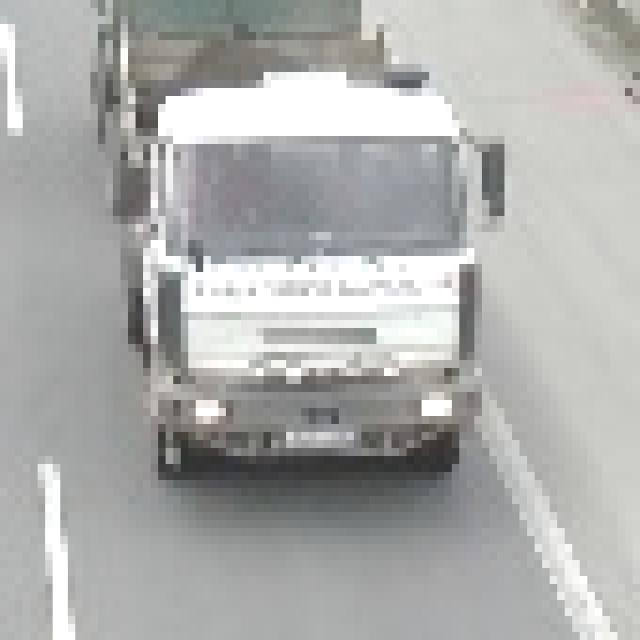truck: (77, 1, 506, 481)
